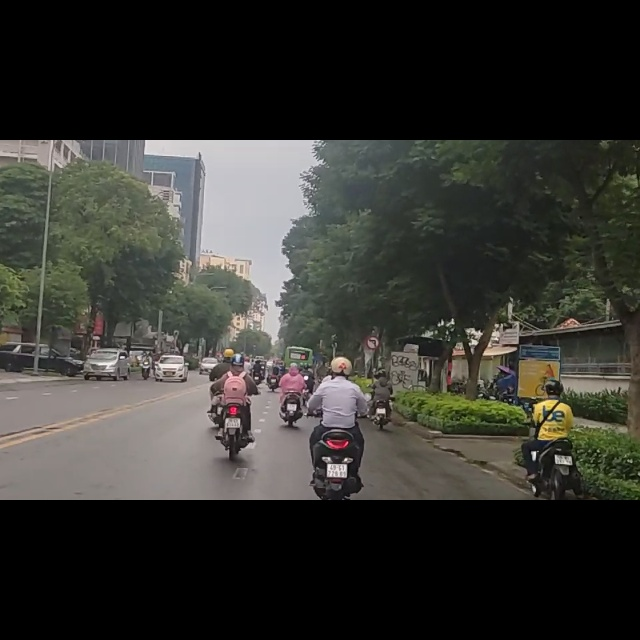bien_cam: (365, 348, 381, 375)
